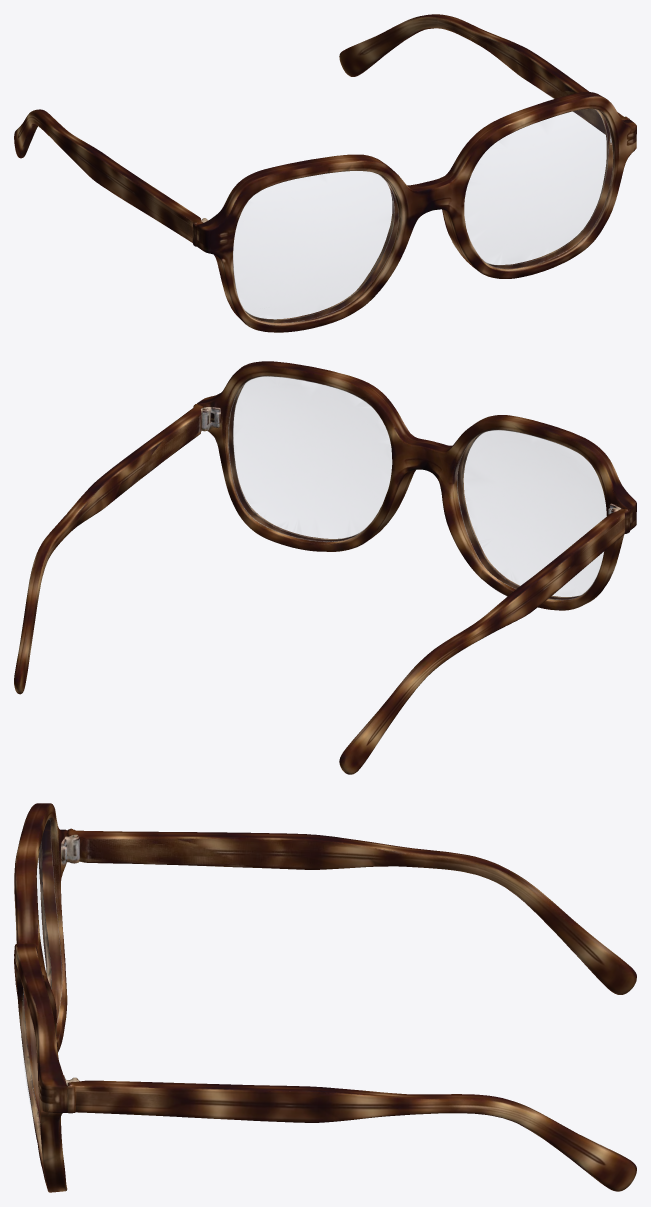
Rendered from lunettes.glb.
3 views of the same model, one above another, from view 1: azimuth 30°, elevation 25°; view 2: azimuth 150°, elevation 25°; view 3: azimuth 270°, elevation 25° (orthographic). The views are drawn at different scales.
Bounding box in the file's own units: 1.87 × 0.7048 × 1.9.
Materials: 1 (1 with a texture image).
